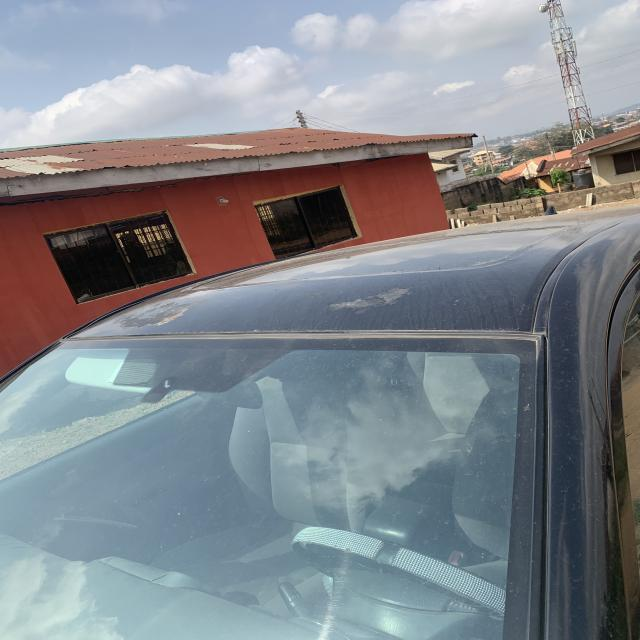paint-chip: (320, 282, 422, 324), (107, 296, 197, 330)
